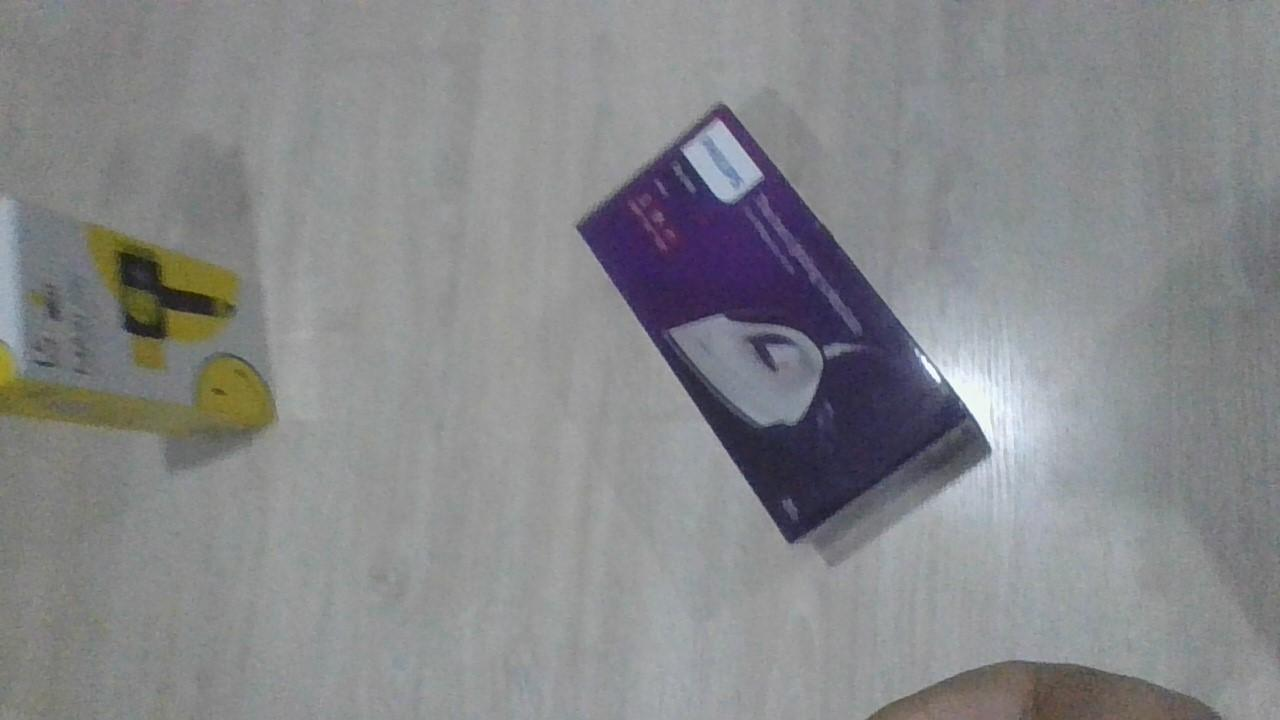IRON: (570, 99, 994, 554)
